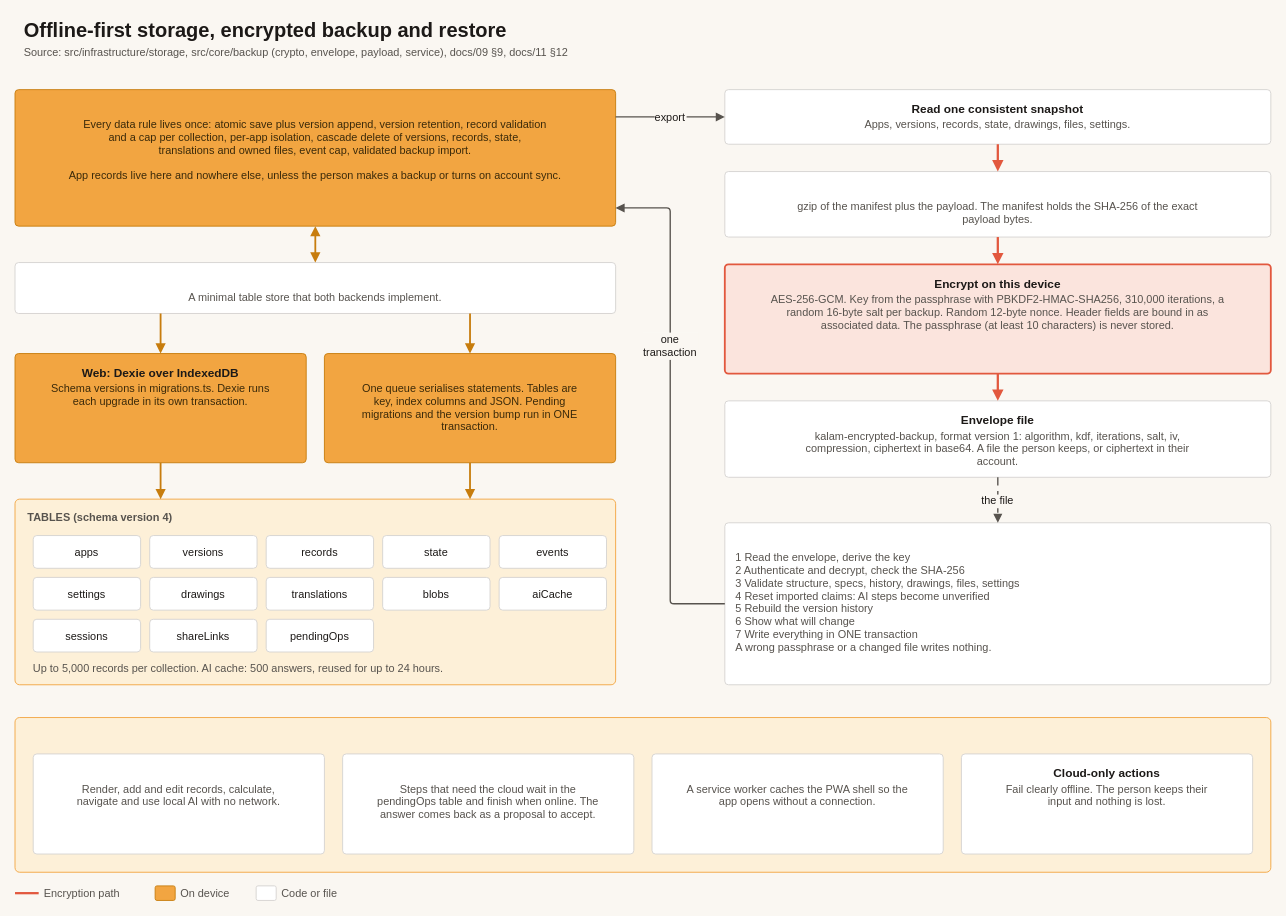
This 1286x916 diagram has some shape labels left out. Here are the shapes that lost their labels. From the top down, the box of each, then its label:
(14, 89, 616, 226): KalamDatabase (kalam-database.ts)
(724, 171, 1271, 237): Pack and compress
(14, 262, 616, 313): StoreTable driver port
(324, 353, 616, 463): Android and iOS: expo-sqlite
(724, 522, 1271, 685): Restore (all on this device)
(32, 753, 324, 854): Saved apps open and run
(342, 753, 634, 854): Queued AI steps
(14, 717, 1271, 872): OFFLINE BEHAVIOUR
(651, 753, 943, 854): Web app shell
